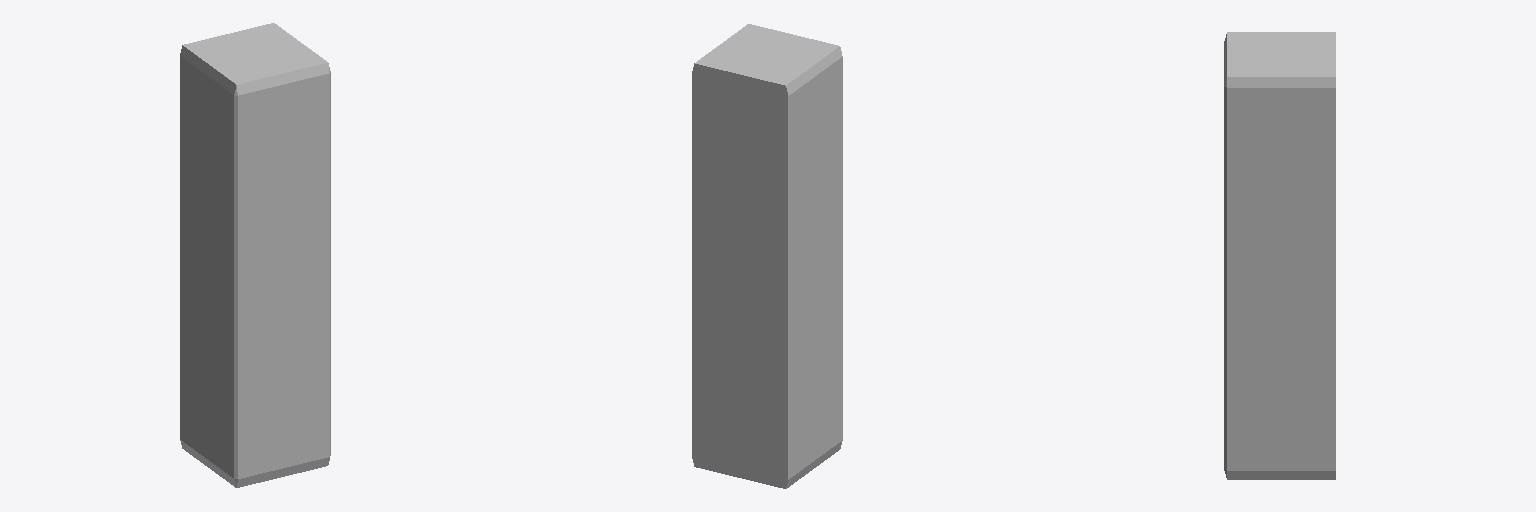
File: whiteKey.obj
3 views of the same model, side by side, from view 1: azimuth 30°, elevation 25°; view 2: azimuth 150°, elevation 25°; view 3: azimuth 270°, elevation 25° (orthographic).
Parts seen in each view (by area): view 1: Cube; view 2: Cube; view 3: Cube.
Boxes of the visible parts, box(x1,y1,x2,y2) form: Cube: box(180, 23, 330, 487); Cube: box(692, 24, 842, 488); Cube: box(1224, 32, 1335, 479).
Size of the model in its own units: 2 by 8 by 2.